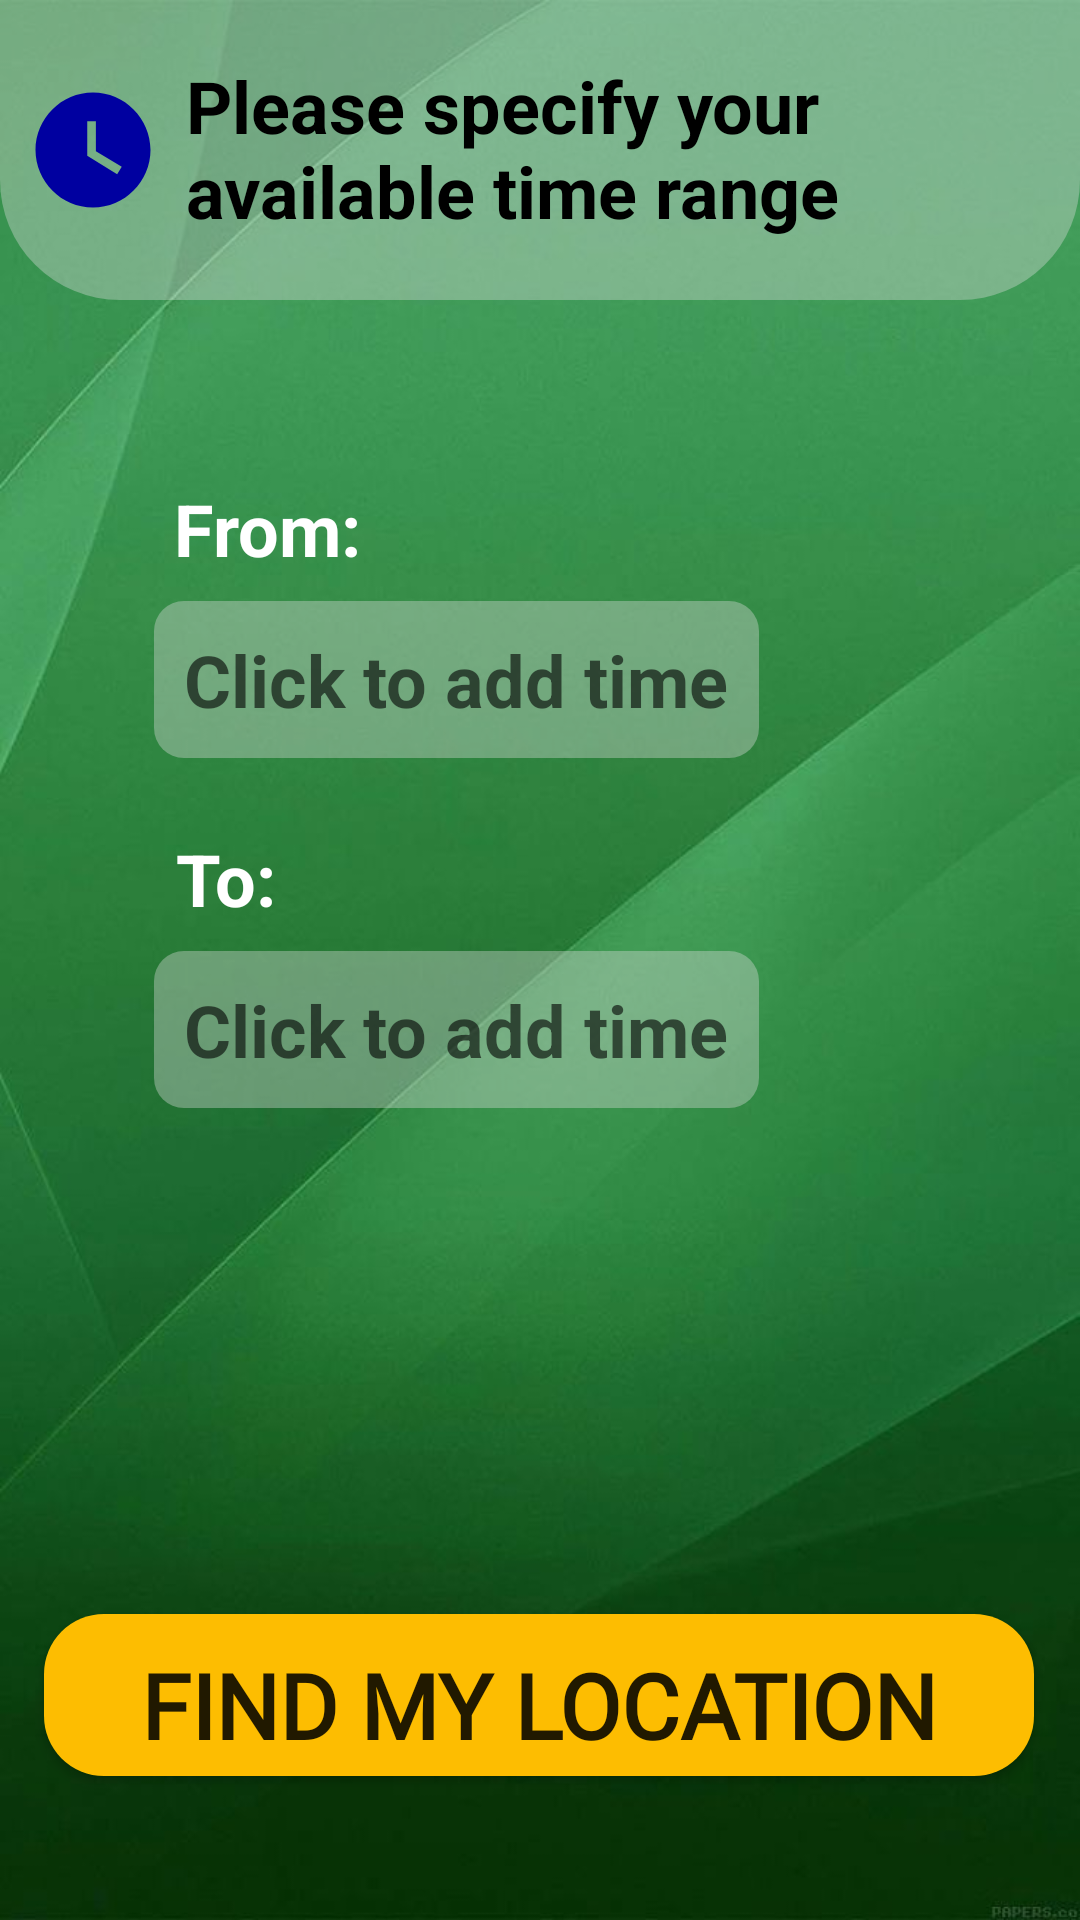

Screen size 1080*1920. Icon name, then its box in pixels as [x1=x1, y1=y1, x2=x2, y2=y2]:
watch: [x1=35, y1=92, x2=151, y2=208]
